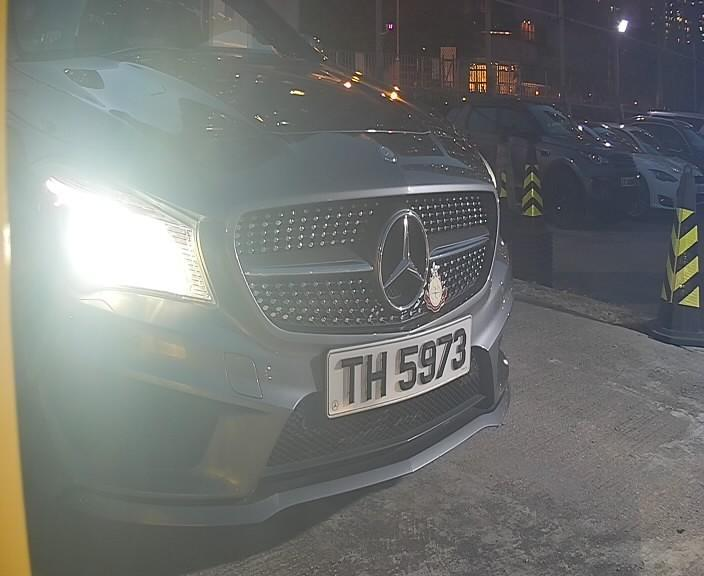privatecar: (16, 8, 513, 541)
